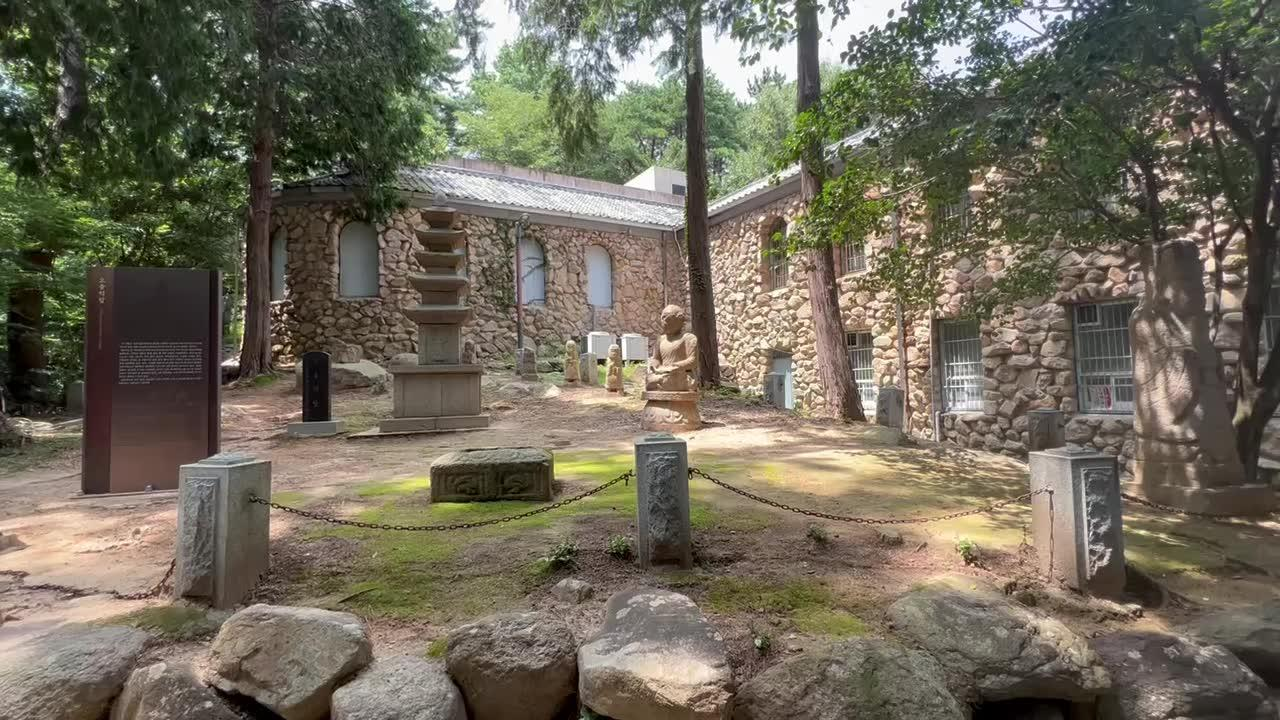building: (388, 156, 697, 394)
